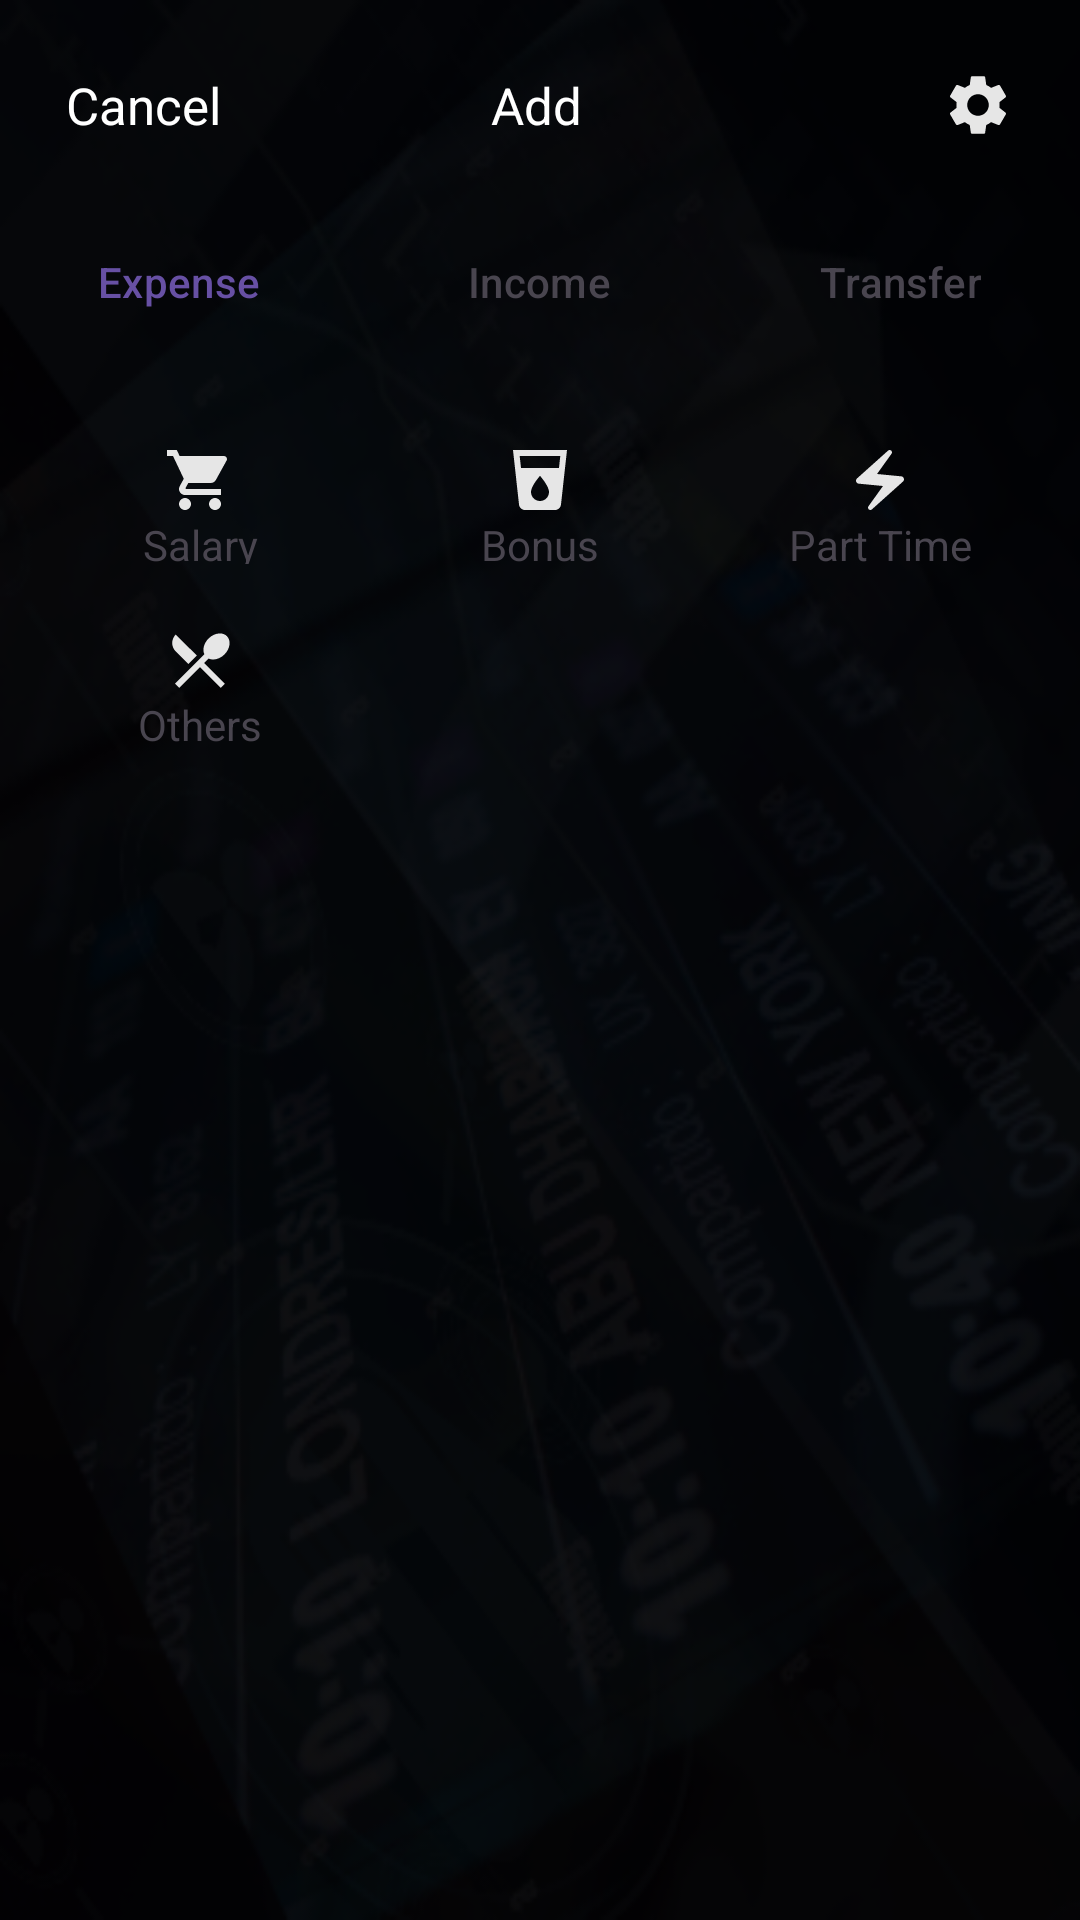

Icons on this 1080px×1920px Android screen, each with the point to tap as point (x, y):
setting bd: point (978, 105)
